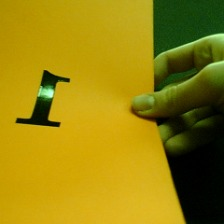orange1: (9, 65, 75, 132)
